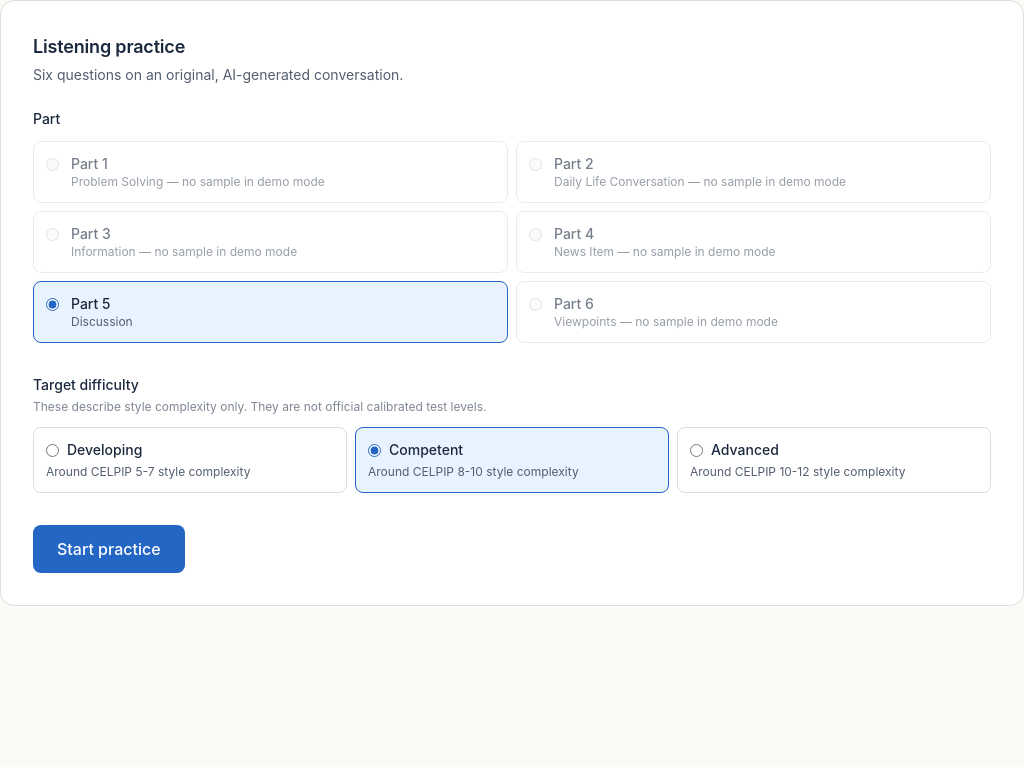
Test: ListeningPage › blocks submission until every question is answered
Click the button "Start practice" at (109, 549), box [33,525,185,573]
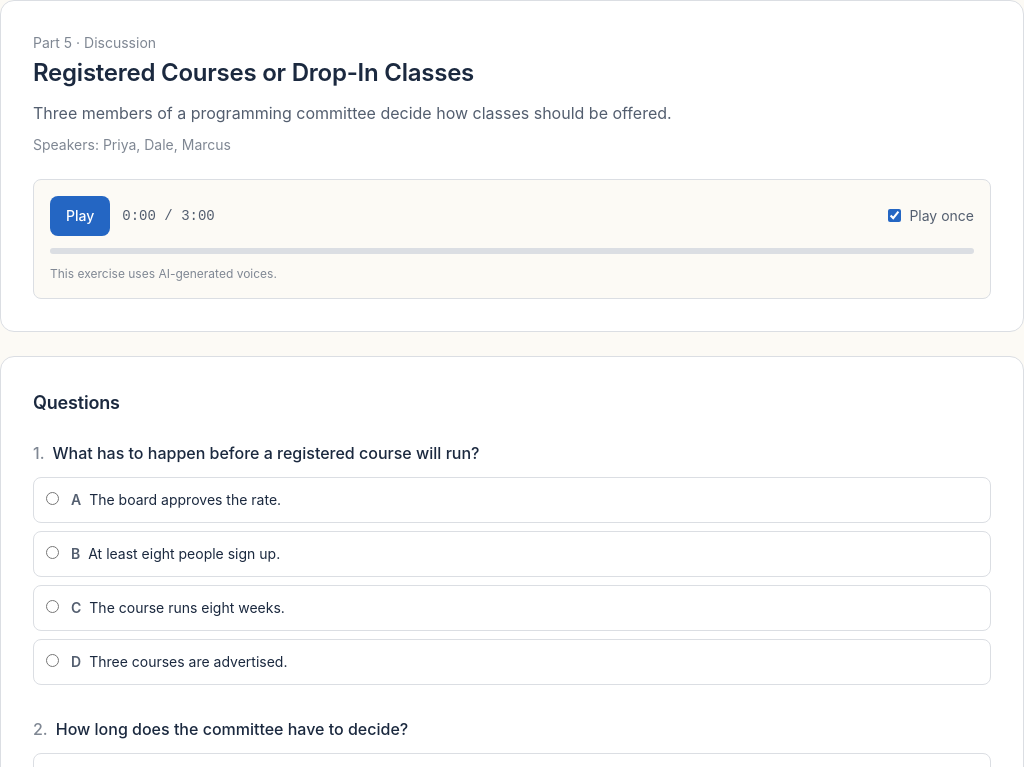
Result: the heading "Registered Courses or Drop-In Classes" is shown at [33,58,474,87]
Click the radio button labelled "BAt least eight people sign up." at (52, 552), box [46,546,59,559]
(page scrolled)
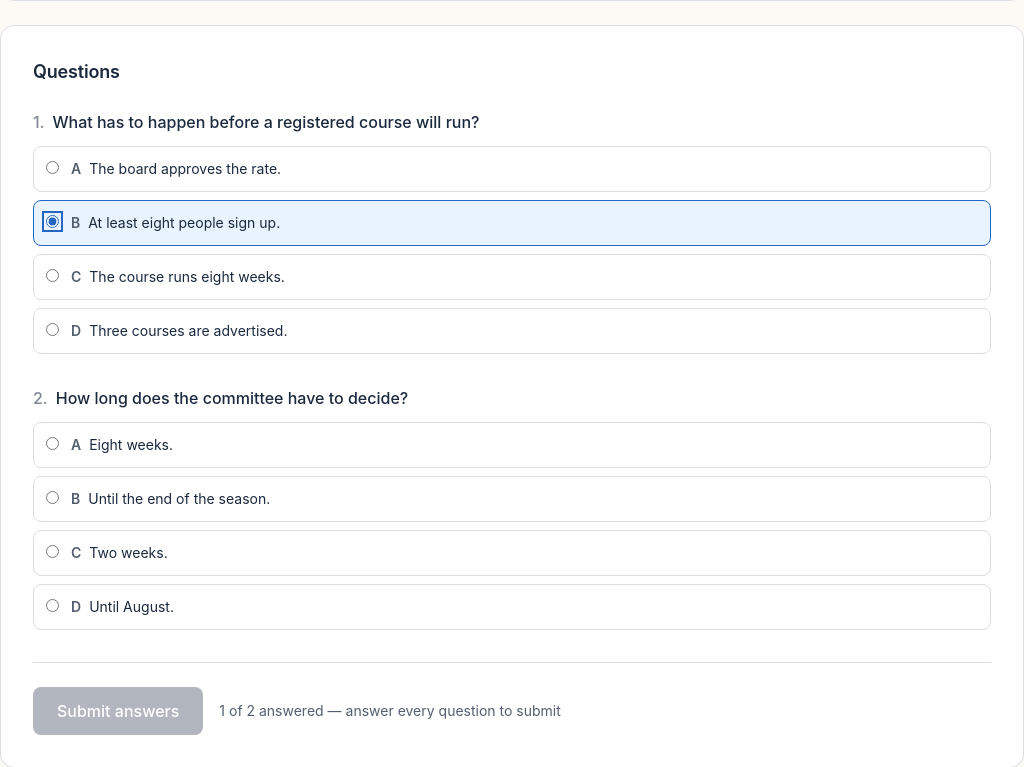
Result: the button "Submit answers" is disabled at [33,687,203,735]
Result: the text "1 of 2 answered — answer every question to submit" is shown at [219,701,561,721]
Click the radio button labelled "Two weeks" at (52, 551), box [46,545,59,558]
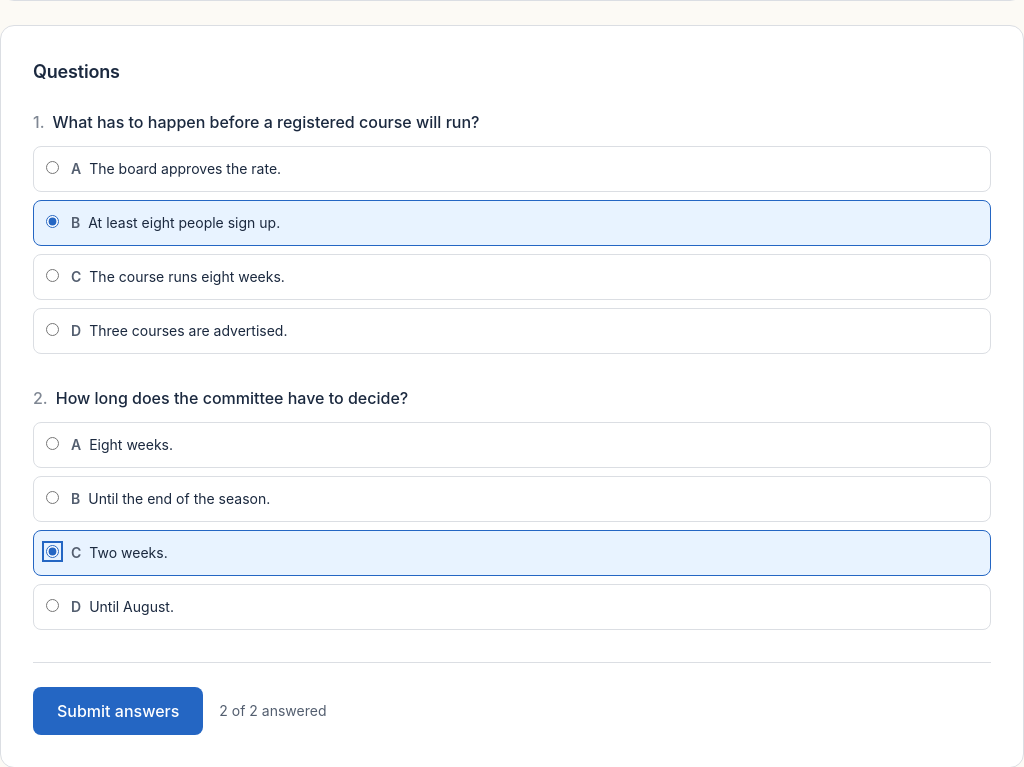
Result: the button "Submit answers" is enabled at [33,687,203,735]
